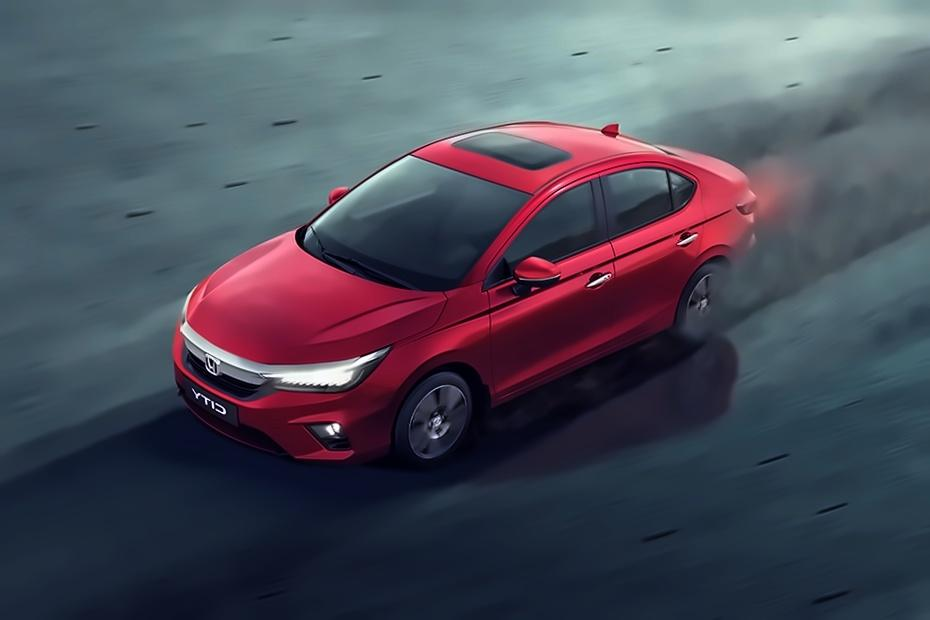Car hood: (178, 227, 453, 369)
Fender - -F-L-: (370, 280, 494, 437)
Fender - -R-L-: (682, 153, 760, 315)
Front bumper: (160, 316, 399, 467)
Headlight - -L-: (254, 342, 393, 397)
Passenger-s door - -F-L-: (474, 163, 628, 417)
Passenger-s door - -R-L-: (595, 139, 713, 377)
Rear light - -L-: (734, 184, 759, 226)
Side bumper - -L-: (478, 299, 678, 477)
Side mirror - -L-: (487, 251, 563, 303)
